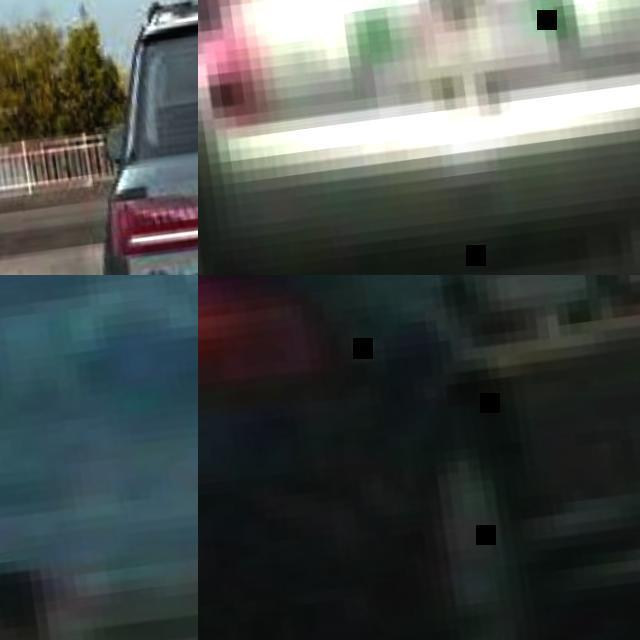car: (100, 2, 197, 270)
